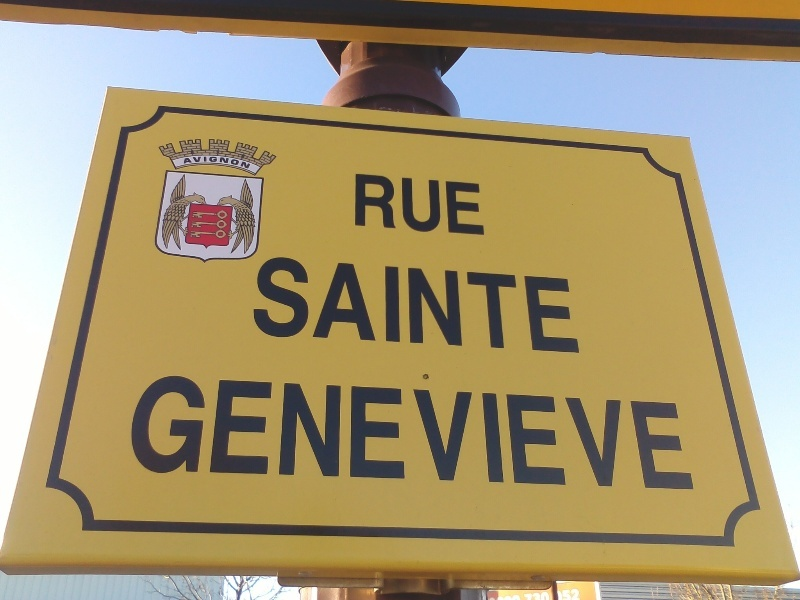text: (145, 374, 160, 490), (161, 374, 176, 490), (177, 374, 192, 490), (193, 374, 208, 490), (209, 374, 224, 490), (225, 374, 240, 490), (241, 374, 256, 490), (257, 374, 272, 490), (273, 374, 288, 490), (289, 374, 304, 490), (305, 374, 320, 490), (321, 374, 336, 490), (337, 374, 352, 490), (353, 374, 368, 490), (369, 374, 384, 490), (385, 374, 400, 490), (401, 374, 416, 490), (417, 374, 432, 490), (433, 374, 448, 490), (449, 374, 464, 490), (465, 374, 480, 490), (481, 374, 496, 490), (497, 374, 512, 490), (513, 374, 528, 490), (529, 374, 544, 490), (545, 374, 560, 490), (561, 374, 576, 490), (577, 374, 592, 490), (593, 374, 608, 490), (609, 374, 624, 490), (625, 374, 640, 490), (641, 374, 656, 490), (657, 374, 672, 490), (673, 374, 688, 490), (257, 256, 272, 354), (273, 256, 288, 354), (289, 256, 304, 354), (305, 256, 320, 354), (321, 256, 336, 354), (337, 256, 352, 354), (353, 256, 368, 354), (369, 256, 384, 354), (385, 256, 400, 354), (401, 256, 416, 354), (417, 256, 432, 354), (433, 256, 448, 354), (449, 256, 464, 354), (465, 256, 480, 354), (481, 256, 496, 354), (497, 256, 512, 354), (513, 256, 528, 354), (529, 256, 544, 354), (545, 256, 560, 354), (561, 256, 576, 354), (369, 174, 384, 236), (385, 174, 400, 236), (401, 174, 416, 236), (417, 174, 432, 236), (433, 174, 448, 236), (449, 174, 464, 236), (465, 174, 480, 236), (355, 174, 368, 236), (689, 374, 695, 490), (140, 374, 144, 490), (577, 256, 581, 354), (481, 174, 486, 236), (193, 153, 208, 170), (209, 153, 224, 170), (225, 153, 240, 170), (241, 153, 252, 170), (497, 588, 512, 600), (513, 588, 528, 600), (529, 588, 544, 600), (545, 588, 560, 600), (561, 588, 576, 600), (186, 153, 192, 170), (255, 256, 256, 354), (577, 588, 581, 600), (493, 588, 496, 600)
